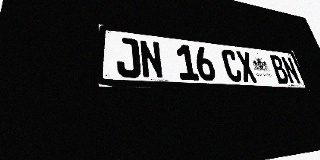1: (174, 44, 199, 80)
6: (193, 46, 217, 81)
B: (268, 55, 290, 84)
C: (220, 49, 244, 82)
J: (115, 37, 141, 78)
N: (139, 39, 164, 79), (280, 56, 302, 84)
X: (235, 51, 258, 83)
